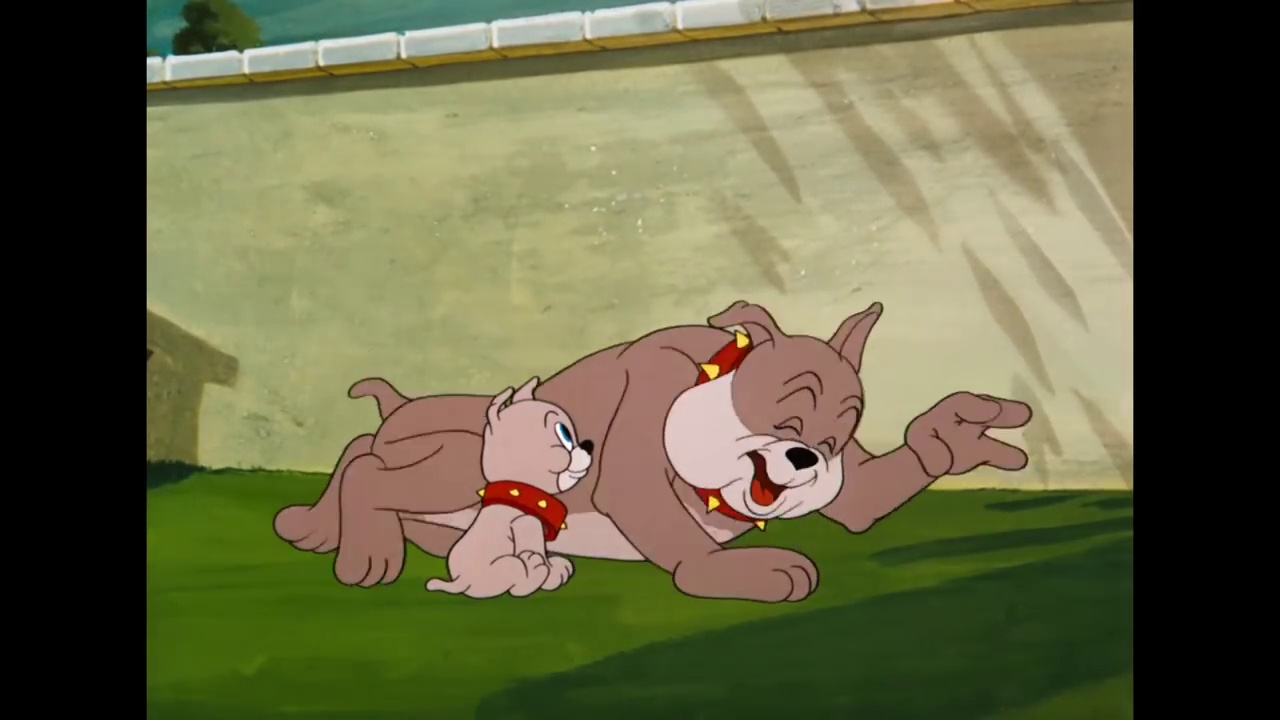spike: (661, 297, 891, 522)
